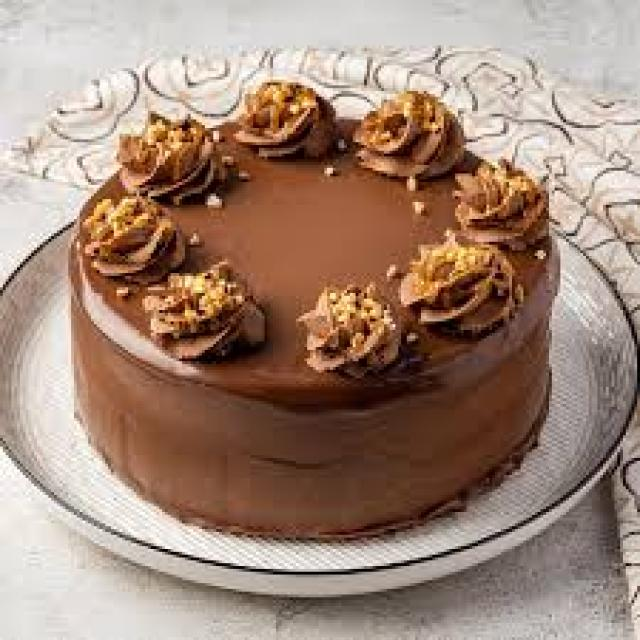Wet Waste: (62, 49, 602, 582)
